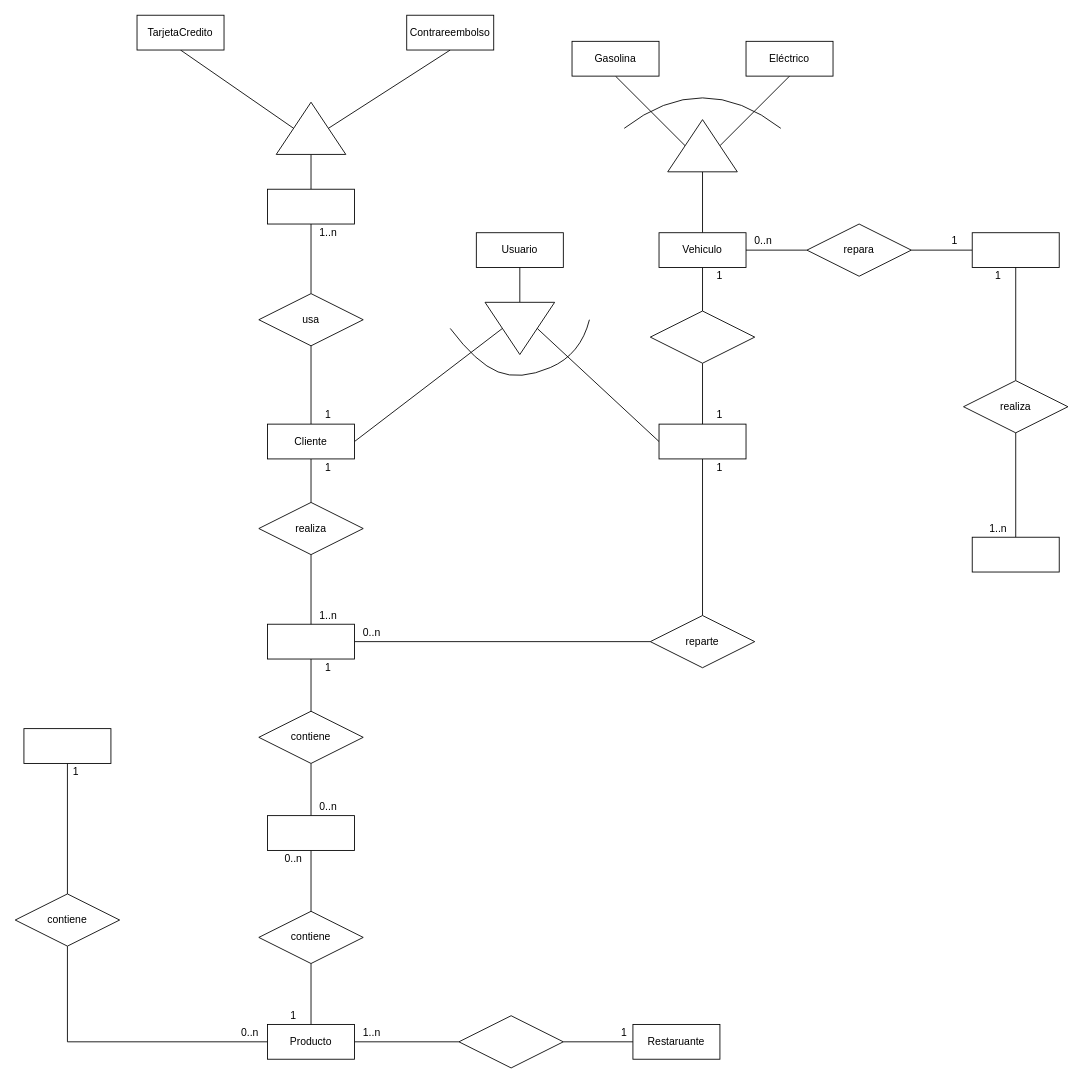
Some shapes in this 1083 by 1083 pixel diagram are drawn without their labels. The centre of each missing label's shape, as x and y in pixels:
"Factura" goes at (x=1015, y=554).
"L.Pedido" goes at (x=311, y=832).
"Mecanico" goes at (x=1015, y=250).
"Metodopago" goes at (x=311, y=206).
"Oferta" goes at (x=67, y=745).
"Pedido" goes at (x=311, y=641).
"Repartidor" goes at (x=702, y=441).
"tiene" goes at (x=702, y=336).
"vende" goes at (x=510, y=1041).
